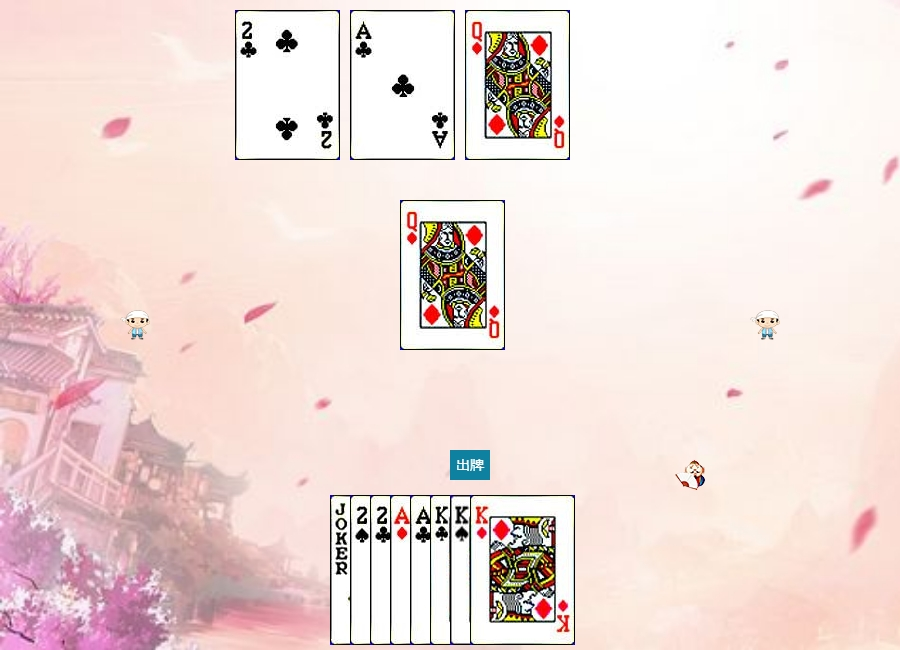12~1: (465, 10, 570, 160), (400, 200, 505, 350)
13~1: (470, 495, 575, 645)
13~2: (430, 495, 535, 645)
13~4: (450, 495, 555, 645)
14~1: (390, 495, 495, 645)
14~2: (350, 10, 455, 160), (410, 495, 515, 645)
15~2: (235, 10, 340, 160), (370, 495, 475, 645)
15~4: (350, 495, 455, 645)
17~3: (330, 495, 435, 645)
